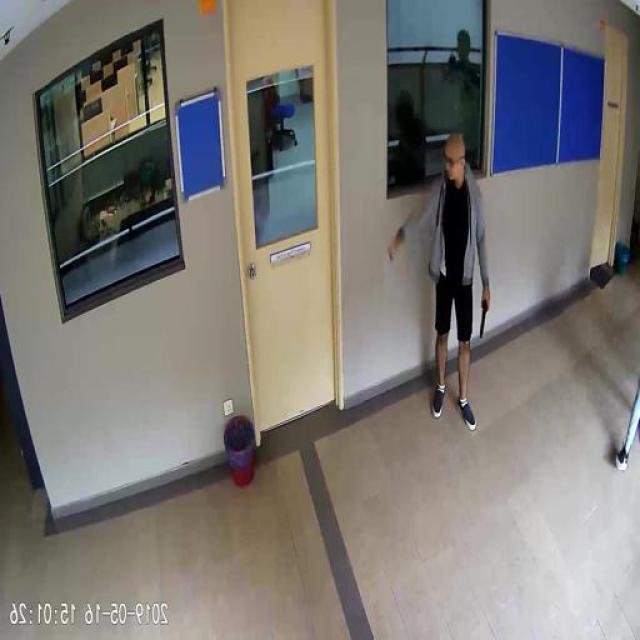Gun: (482, 291, 492, 335)
